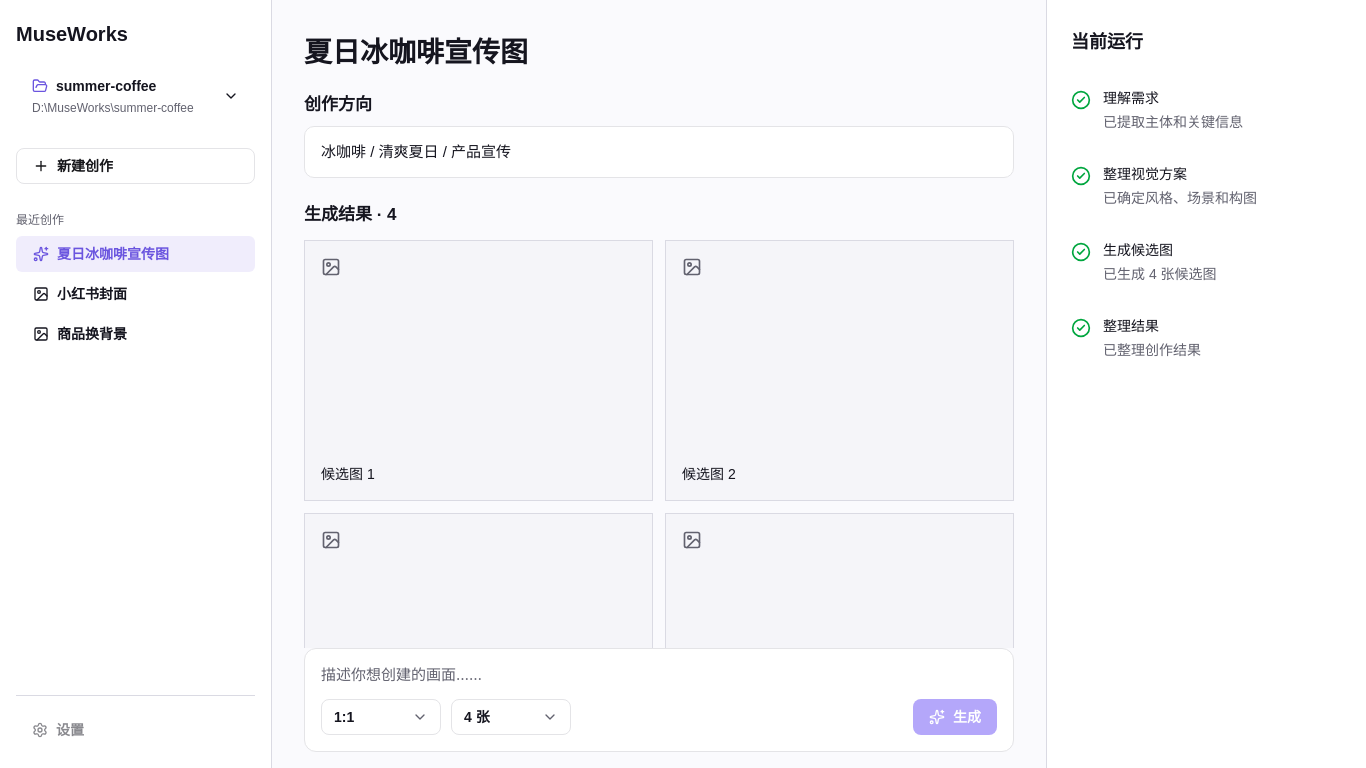
creative workspace renderer › keeps a Workspace selection failure visible in the creative workspace
expect the heading "夏日冰咖啡宣传图" is shown: met, box left=304, top=37, right=528, bottom=68
Press the mouse on the button "summer-coffee D:\\MuseWorks\\summer-coffee": (136, 96) left=16, top=68, right=255, bottom=124
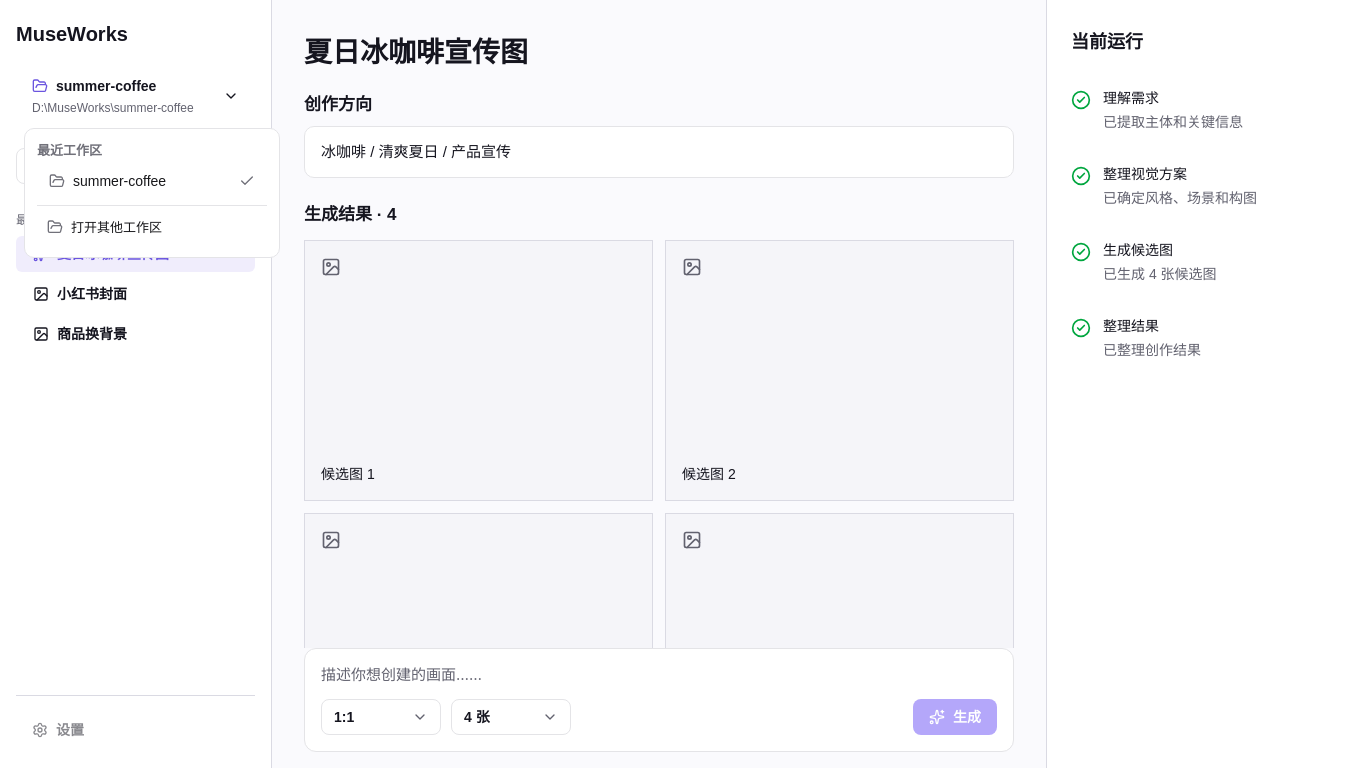
Click the menu item "打开其他工作区": (104, 227) left=47, top=219, right=162, bottom=235
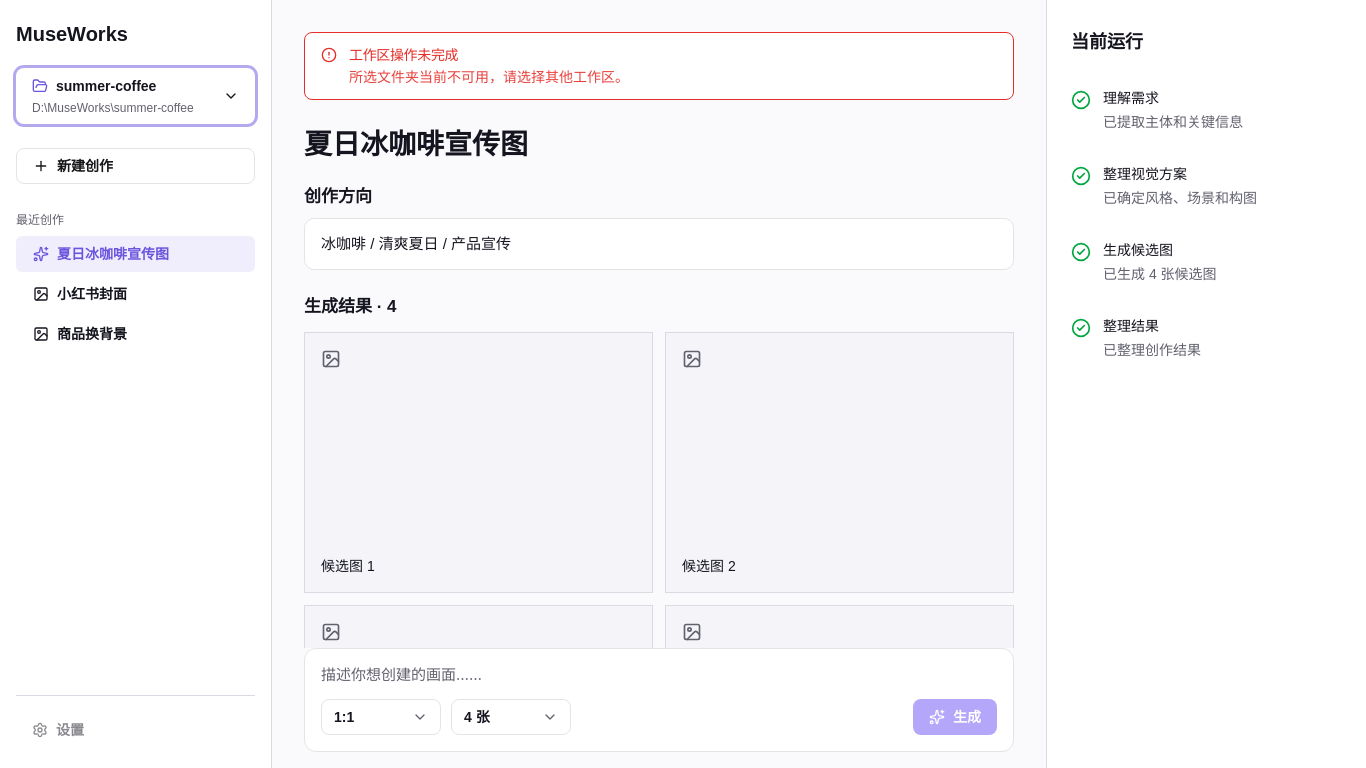
expect the heading "夏日冰咖啡宣传图" is shown: met, box left=304, top=129, right=528, bottom=160
expect the text "所选文件夹当前不可用，请选择其他工作区。" is shown: met, box left=349, top=69, right=629, bottom=85
